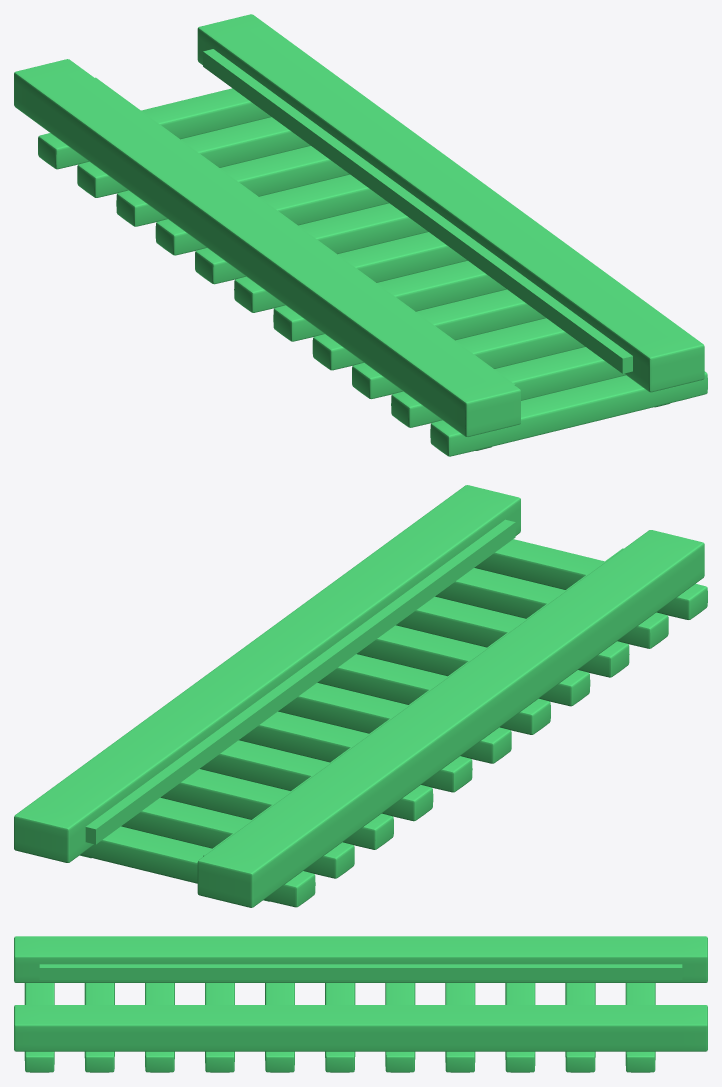
The model's file is SM_Pulley_Bridge.fbx.
3 renders of one model, top to bottom at view 1: azimuth 30°, elevation 25°; view 2: azimuth 150°, elevation 25°; view 3: azimuth 270°, elevation 25°, orthographic. The views are drawn at different scales.
Parts seen in each view (by area): view 1: SM_Pulley_Bridge, Ladder1, Ladder2, Ladder4, Ladder8, Ladder9, Ladder5, Ladder6, Ladder10, Ladder7, Ladder11, Ladder3; view 2: SM_Pulley_Bridge, Ladder11, Ladder3, Ladder7, Ladder10, Ladder2, Ladder4, Ladder6, Ladder9, Ladder5, Ladder8, Ladder1; view 3: SM_Pulley_Bridge, Ladder10, Ladder9, Ladder11, Ladder8, Ladder1, Ladder7, Ladder2, Ladder6, Ladder4, Ladder3, Ladder5.
Boxes of the visible parts, x1=… form: SM_Pulley_Bridge: x1=14, y1=14, x2=704, y2=437; Ladder1: x1=430, y1=371, x2=707, y2=456; Ladder2: x1=391, y1=347, x2=625, y2=427; Ladder4: x1=312, y1=289, x2=545, y2=370; Ladder8: x1=155, y1=174, x2=388, y2=255; Ladder9: x1=116, y1=146, x2=349, y2=226; Ladder5: x1=273, y1=260, x2=506, y2=341; Ladder6: x1=234, y1=232, x2=467, y2=312; Ladder10: x1=77, y1=117, x2=310, y2=197; Ladder7: x1=195, y1=203, x2=428, y2=284; Ladder11: x1=38, y1=88, x2=271, y2=169; Ladder3: x1=352, y1=318, x2=585, y2=399; SM_Pulley_Bridge: x1=14, y1=485, x2=704, y2=907; Ladder11: x1=79, y1=826, x2=315, y2=907; Ladder3: x1=396, y1=596, x2=629, y2=677; Ladder7: x1=239, y1=711, x2=472, y2=792; Ladder10: x1=121, y1=797, x2=354, y2=878; Ladder2: x1=435, y1=568, x2=668, y2=648; Ladder4: x1=357, y1=625, x2=590, y2=706; Ladder6: x1=278, y1=682, x2=511, y2=763; Ladder9: x1=160, y1=769, x2=393, y2=849; Ladder5: x1=317, y1=654, x2=550, y2=734; Ladder8: x1=200, y1=740, x2=433, y2=821; Ladder1: x1=474, y1=539, x2=707, y2=619; SM_Pulley_Bridge: x1=14, y1=936, x2=707, y2=1051; Ladder10: x1=565, y1=983, x2=595, y2=1072; Ladder9: x1=505, y1=983, x2=535, y2=1072; Ladder11: x1=625, y1=983, x2=655, y2=1072; Ladder8: x1=445, y1=983, x2=475, y2=1072; Ladder1: x1=24, y1=983, x2=54, y2=1072; Ladder7: x1=385, y1=983, x2=415, y2=1072; Ladder2: x1=84, y1=983, x2=114, y2=1072; Ladder6: x1=325, y1=983, x2=355, y2=1072; Ladder4: x1=205, y1=983, x2=234, y2=1072; Ladder3: x1=145, y1=983, x2=174, y2=1072; Ladder5: x1=265, y1=983, x2=294, y2=1072.
Bounding box in the file's own units: 57.05 × 13.13 × 172.
